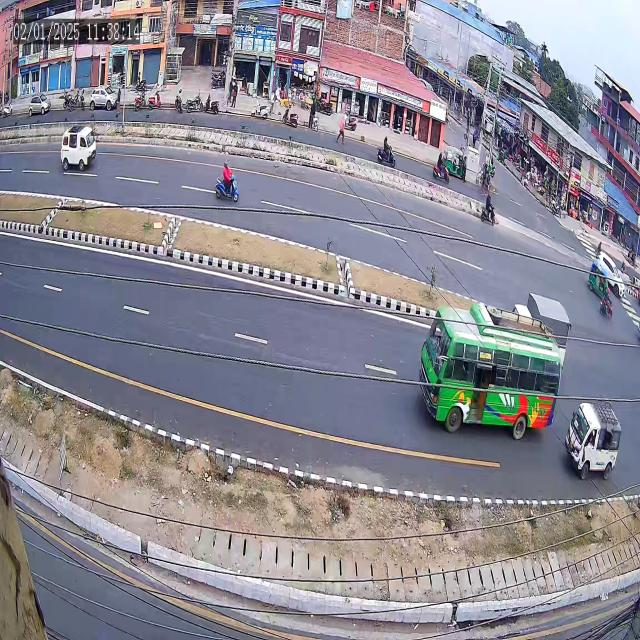auto: (586, 251, 612, 307)
bus: (404, 277, 562, 474)
motorcycle: (203, 146, 244, 230), (476, 188, 498, 237)
van: (564, 386, 626, 480), (54, 119, 94, 184)
